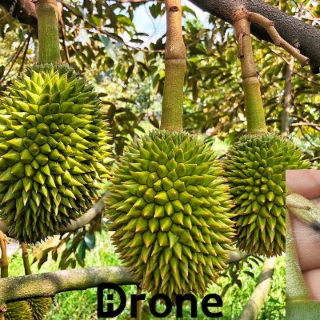sau_rieng: (102, 125, 241, 283)
